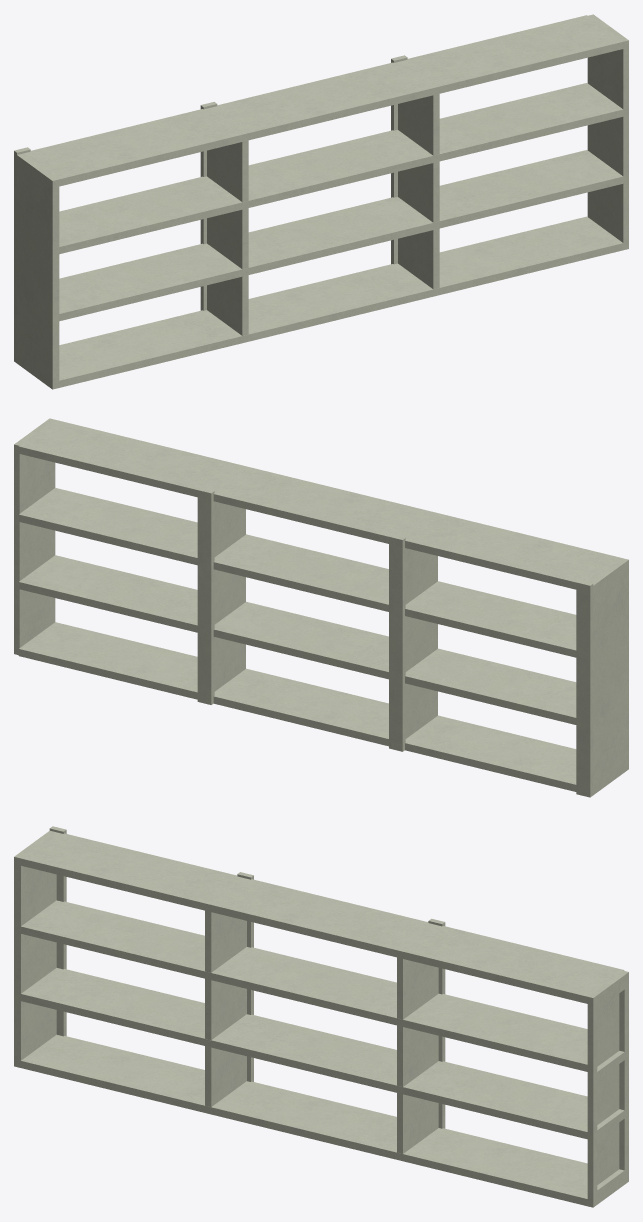
The model's file is Shelf_1_center.dae.
3 renders of one model, top to bottom at view 1: azimuth 30°, elevation 25°; view 2: azimuth 150°, elevation 25°; view 3: azimuth 330°, elevation 25°, orthographic.
Visible parts, largest first — view 1: Shelf_1_center; view 2: Shelf_1_center; view 3: Shelf_1_center.
Boxes of the visible parts, x1,y1,x2,y2 form: Shelf_1_center: (14, 14, 628, 389); Shelf_1_center: (14, 418, 628, 797); Shelf_1_center: (14, 826, 628, 1207).
Bounding box in the file's own units: 2.76 × 0.32 × 0.965.
1 material, 1 textured.
